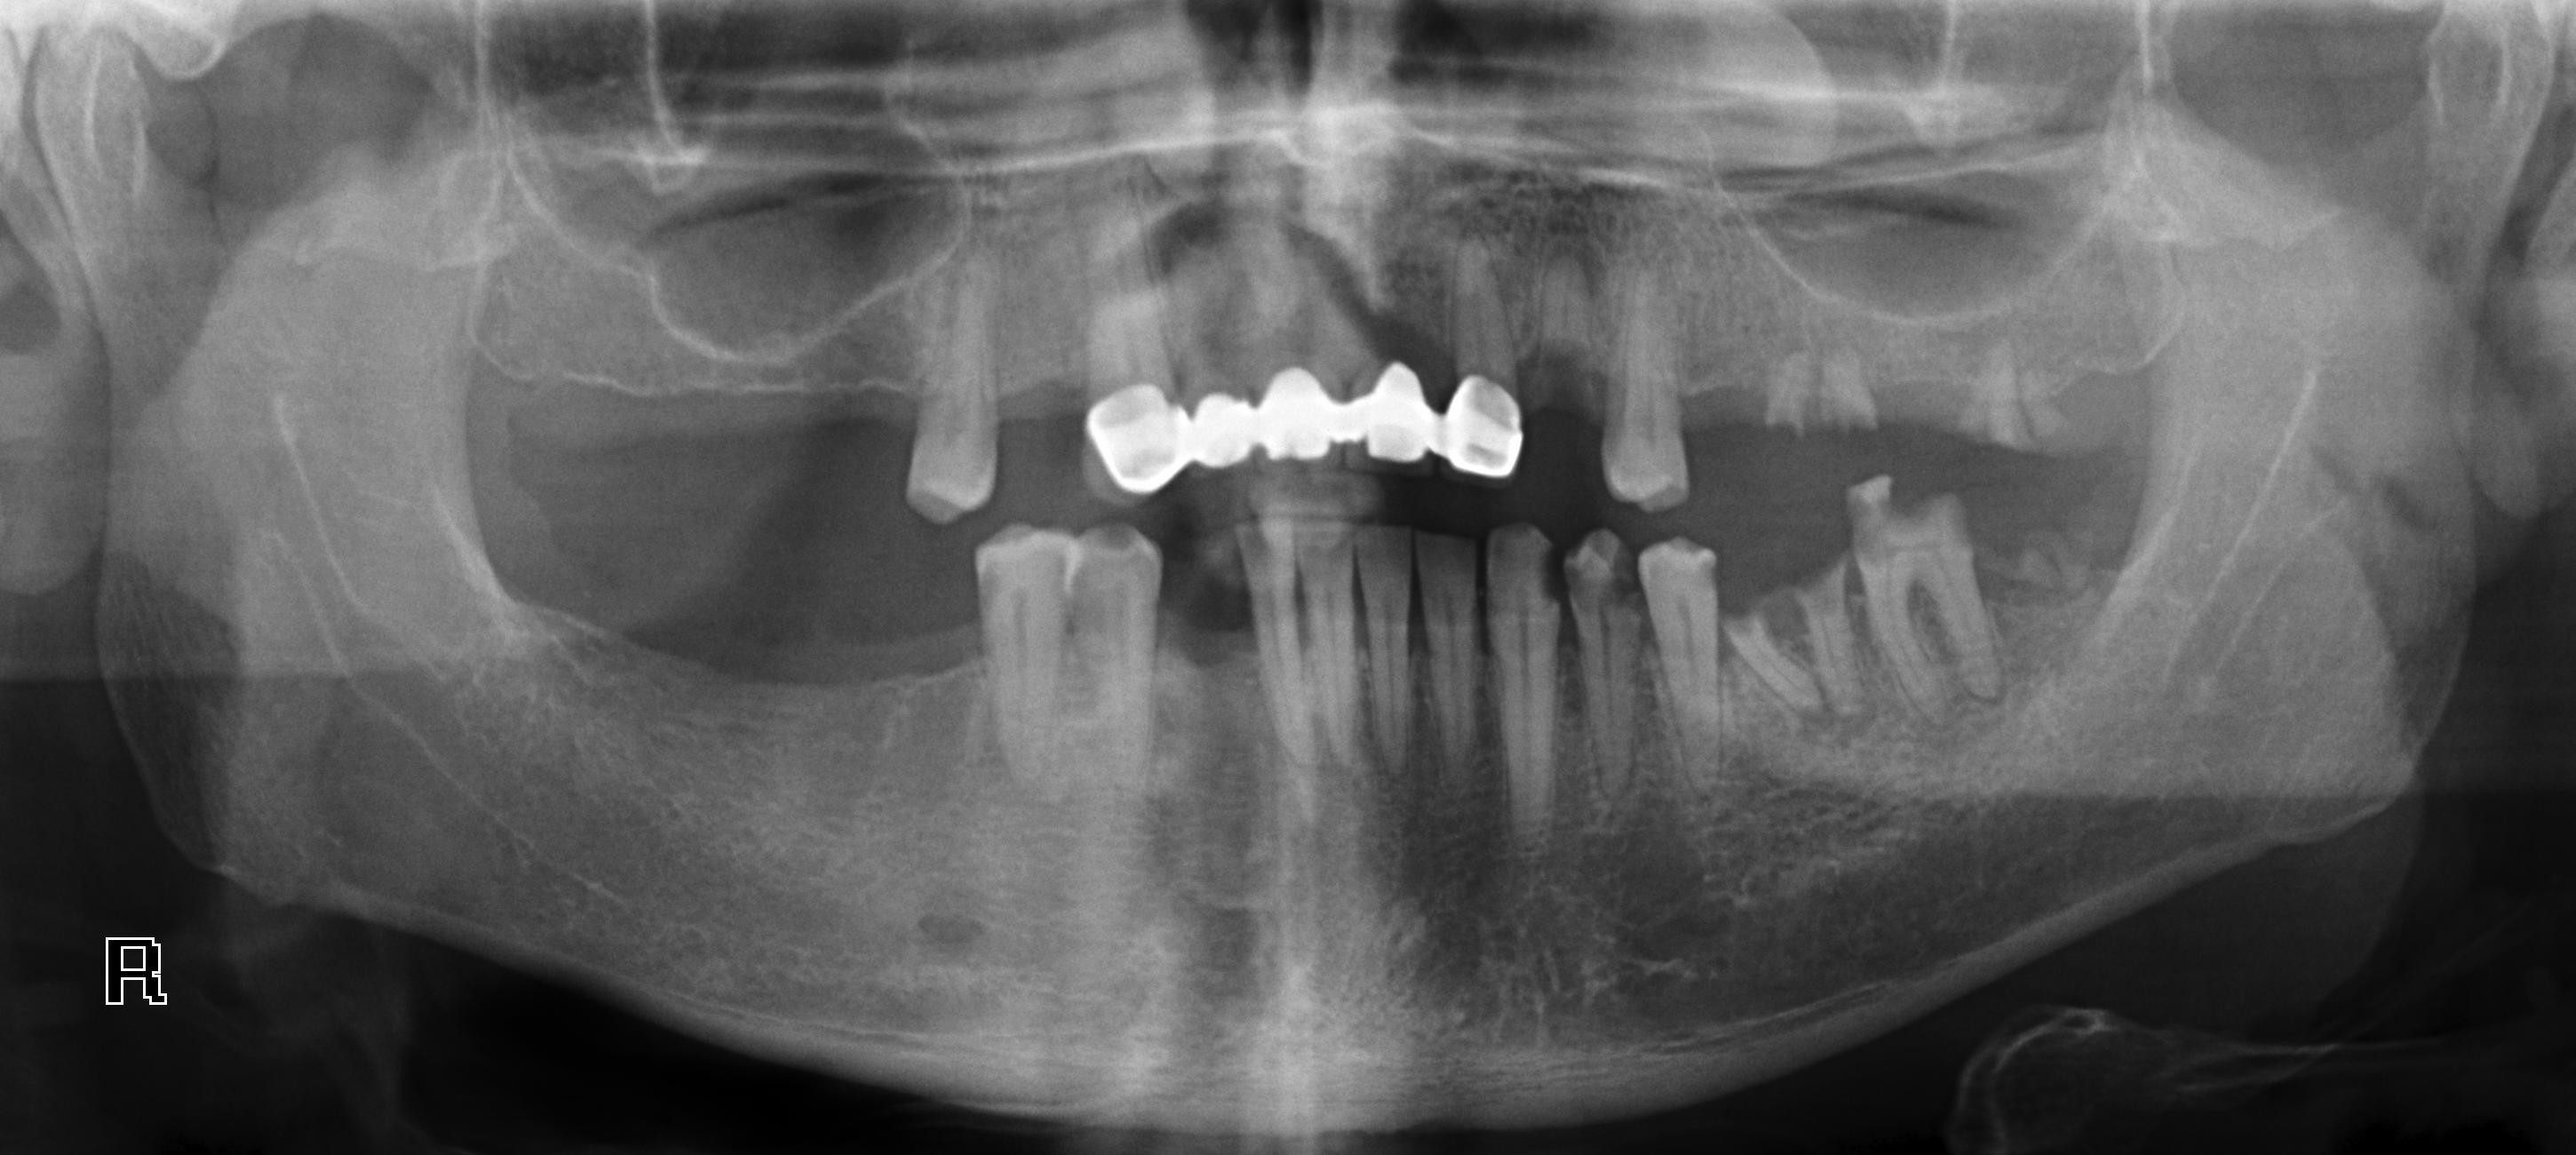Çürük: (1078, 389, 1199, 496), (1433, 381, 1534, 473)
Çürük Bölgesi: (1579, 544, 1641, 628), (1886, 472, 1953, 549), (1526, 337, 1607, 396), (1843, 495, 1884, 559), (1531, 550, 1569, 614), (1804, 570, 1845, 613), (1715, 614, 1763, 644)
